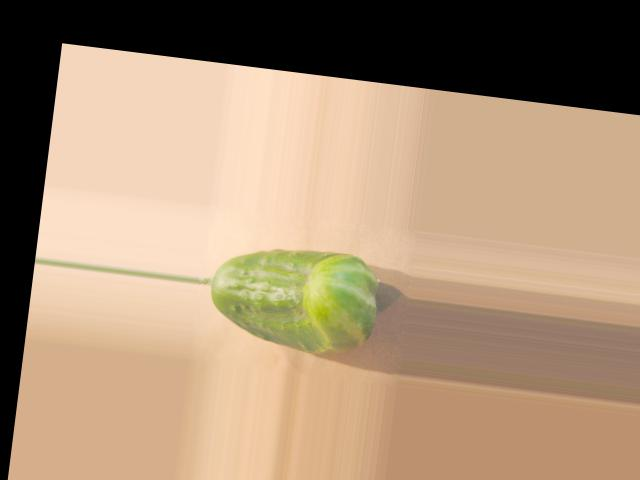cucumber: (204, 236, 382, 358)
